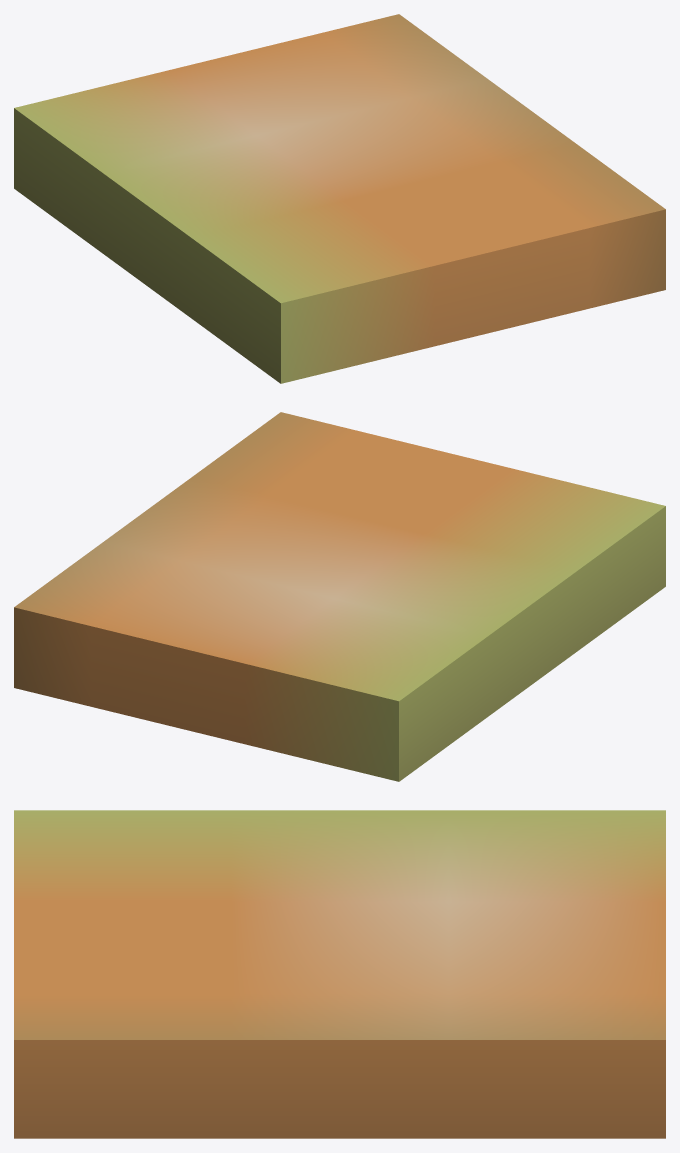
File: NotebookOrange_00.fbx
3 views of the same model, one above another, from view 1: azimuth 30°, elevation 25°; view 2: azimuth 150°, elevation 25°; view 3: azimuth 270°, elevation 25° (orthographic). The views are drawn at different scales.
Visible parts, largest first — view 1: NotebookOrange_00; view 2: NotebookOrange_00; view 3: NotebookOrange_00.
Boxes of the visible parts, left/top/right/bottom form: NotebookOrange_00: left=14, top=14, right=665, bottom=383; NotebookOrange_00: left=14, top=412, right=665, bottom=781; NotebookOrange_00: left=14, top=810, right=665, bottom=1138.
Bounding box in the file's own units: 25 × 30 × 5.
1 material, 1 textured.
